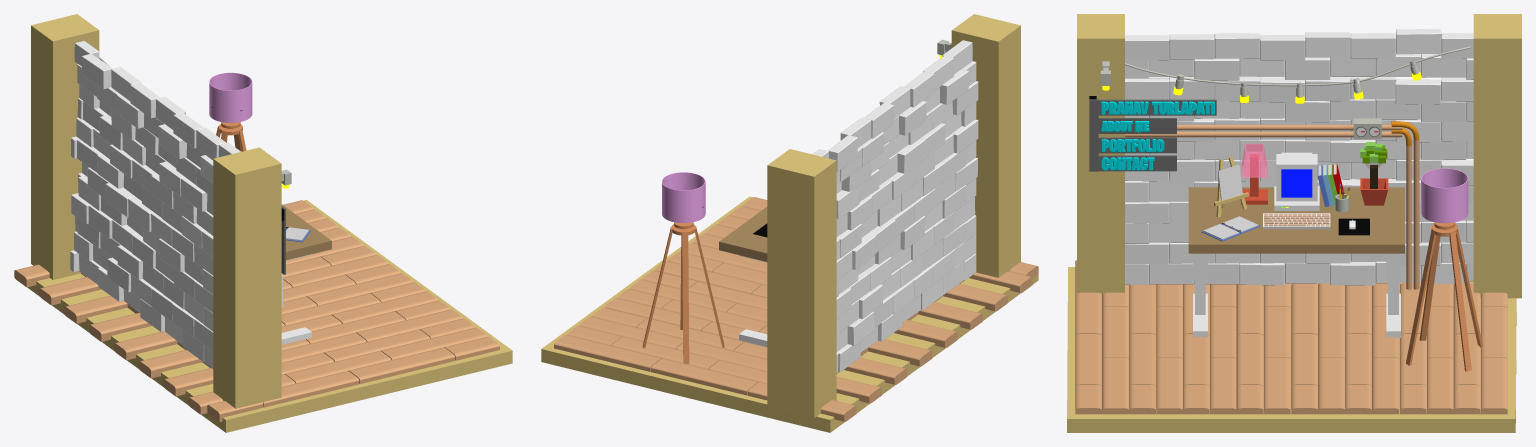
The picture shows the model from 3 angles, left to right: view 1: azimuth 30°, elevation 25°; view 2: azimuth 150°, elevation 25°; view 3: azimuth 270°, elevation 25°; orthographic projection. The views are drawn at different scales.
Visible parts, largest first — view 1: Cube001, Cube, Cube004, Cube005, Cylinder053, Cube122, Cube006, Cube007, Cube096, Cube020, Cube093, Cube102 (+46 smaller); view 2: Cube, Cube001, Cube004, Cylinder051, Cube128, Cube127, Cylinder053, Cylinder001, Cube115, Cube133, Cube108, Cube093 (+47 smaller); view 3: Cube, Cube004, Cube001, Cylinder001, Cylinder026, Cylinder051, Cylinder034, Plane097 (×2), Cylinder053, Cube009_2, Plane104 (×2), Cube006 (+133 smaller).
Part boxes in pixels (box(x1,y1,x2,y2)): Cube001: box(213, 147, 281, 408); Cube: box(31, 14, 99, 279); Cube004: box(27, 200, 512, 432); Cube005: box(348, 347, 455, 383); Cylinder053: box(209, 72, 252, 122); Cube122: box(263, 371, 359, 407); Cube006: box(380, 327, 487, 359); Cube007: box(356, 309, 462, 341); Cube096: box(285, 351, 391, 383); Cube020: box(331, 291, 437, 323); Cube093: box(306, 273, 412, 305); Cube102: box(283, 255, 387, 287); Cube: box(767, 149, 836, 417); Cube001: box(951, 14, 1020, 277); Cube004: box(541, 196, 1038, 432); Cylinder051: box(642, 222, 724, 363); Cube128: box(651, 358, 758, 395); Cube127: box(554, 335, 661, 371); Cylinder053: box(662, 172, 705, 223); Cylinder001: box(719, 206, 767, 261); Cube115: box(579, 316, 682, 349); Cube133: box(612, 336, 719, 369); Cube108: box(604, 298, 712, 331); Cube093: box(655, 261, 762, 294); Cube: box(1473, 14, 1521, 298); Cube004: box(1067, 267, 1516, 432); Cube001: box(1077, 14, 1124, 294); Cylinder001: box(1188, 187, 1404, 253); Cylinder026: box(1125, 124, 1419, 289); Cylinder051: box(1406, 222, 1482, 371); Cylinder034: box(1193, 253, 1400, 337); Plane097 (×2): box(1350, 33, 1395, 58); Cylinder053: box(1421, 168, 1468, 223); Cube009_2: box(1274, 152, 1319, 210); Plane104 (×2): box(1396, 29, 1441, 54); Cube006: box(1102, 357, 1129, 414).
Bounding box in the file's own units: 3.44 × 2.8 × 4.21.
